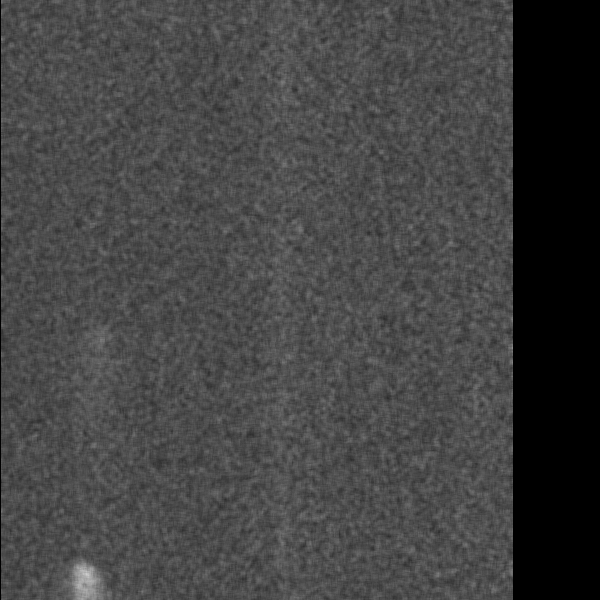spark: (58, 559, 109, 599), (88, 324, 110, 372)
